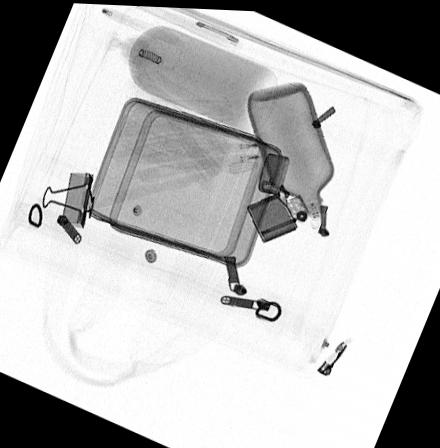Lighter: (244, 150, 307, 241)
